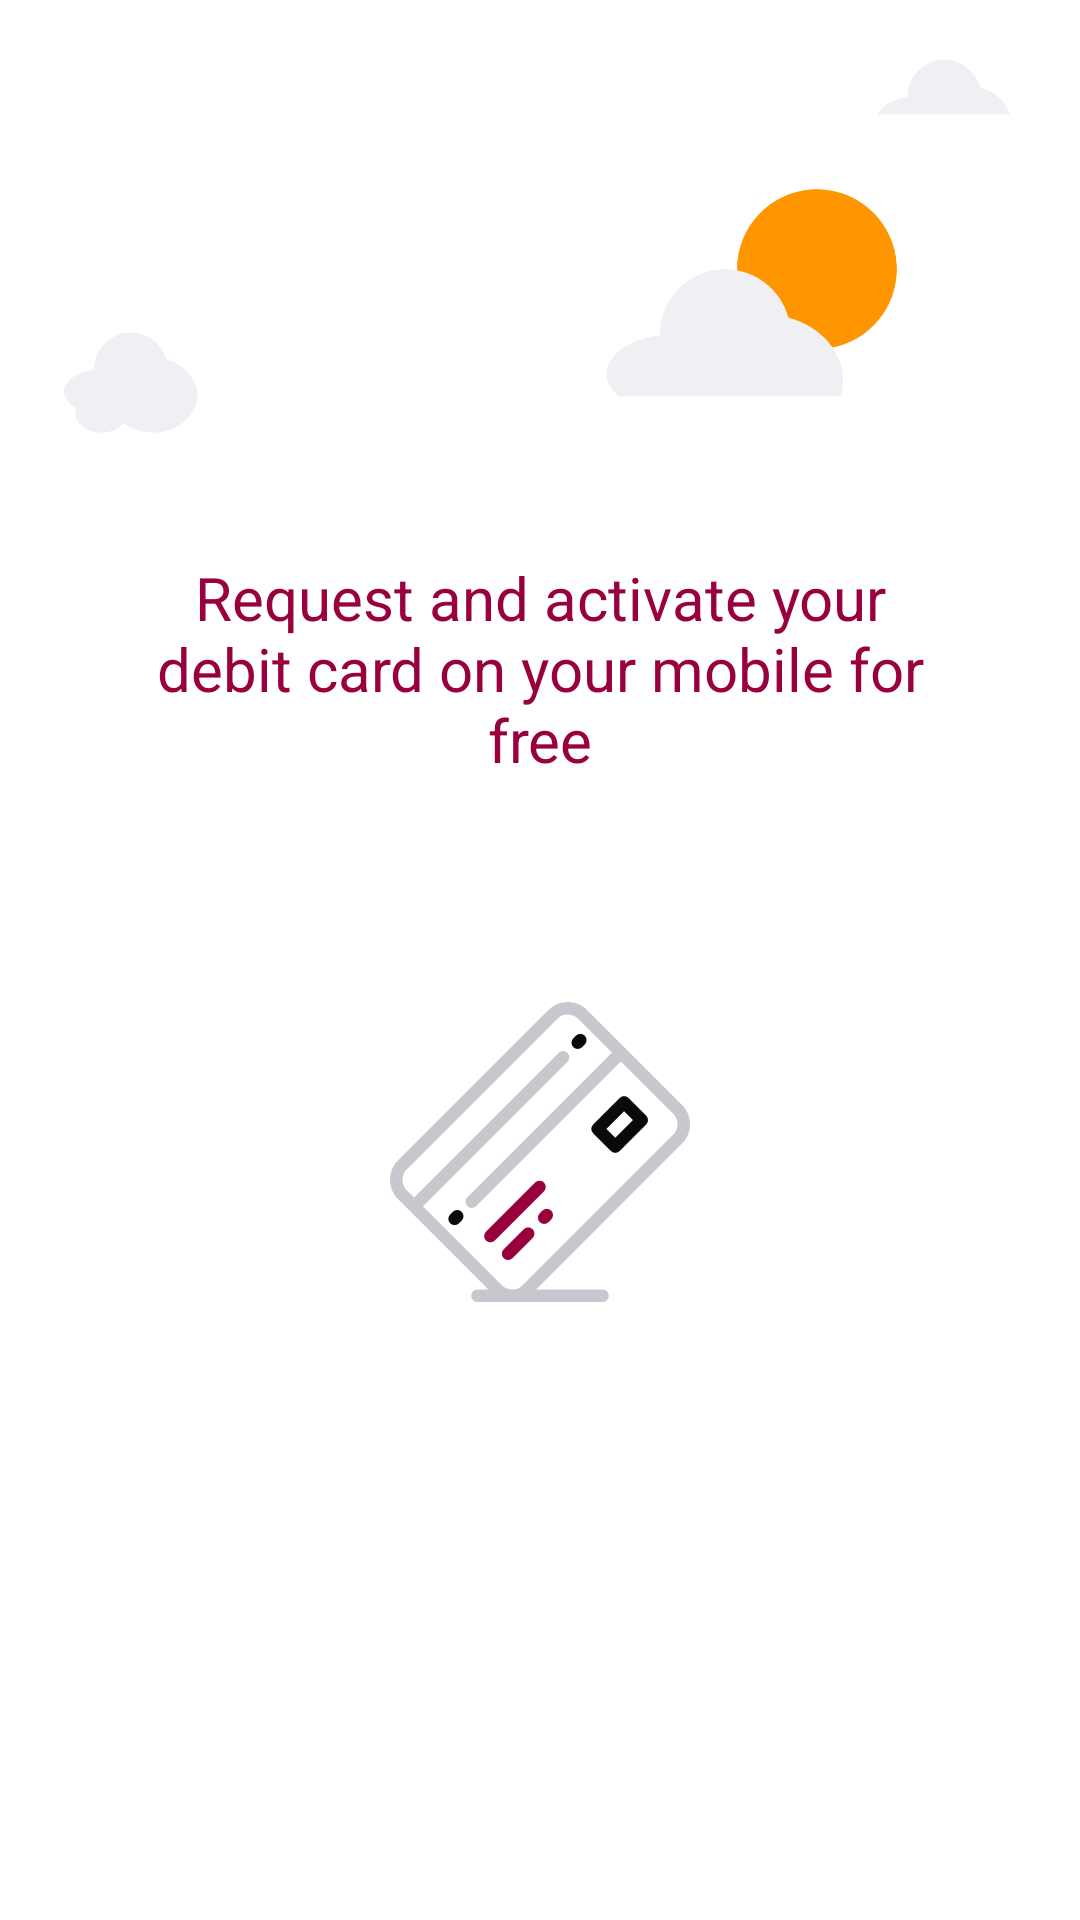

Icons on this 1080 x 1920 Android screen, each with its box as (x1, y1, x2, y2):
credit card: (390, 1002, 690, 1302)
